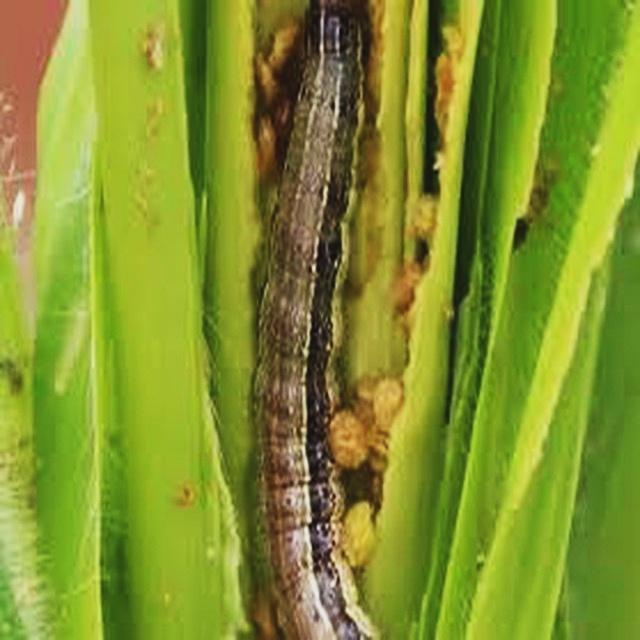gusano_cogollero: (242, 0, 376, 640)
